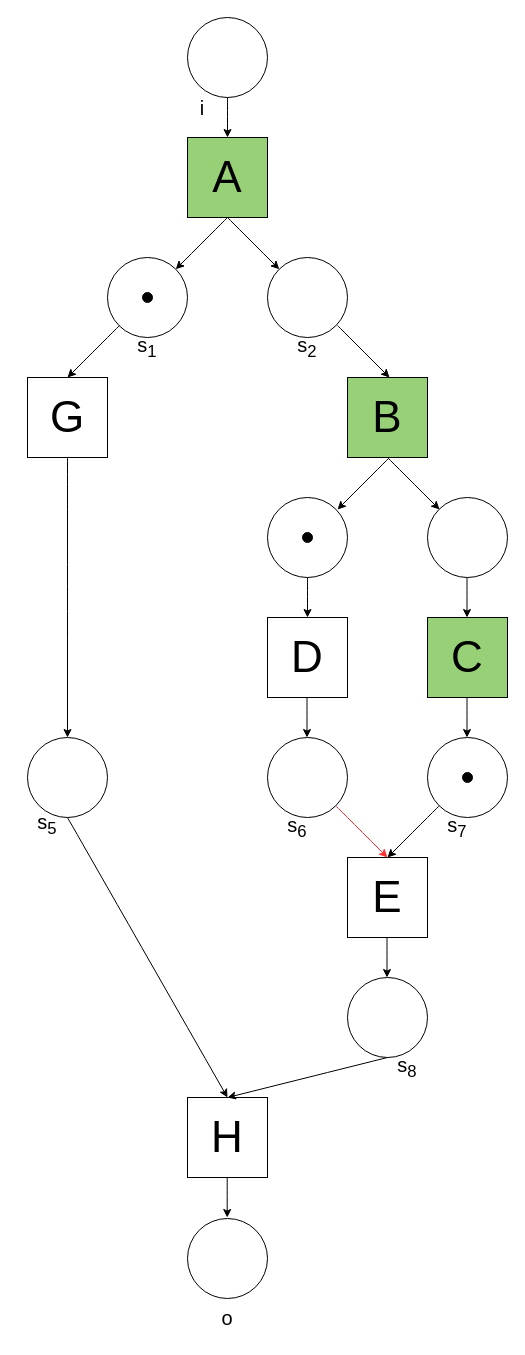
The diagram is 525 pixels wide and 1355 high, and some of its shapes have lost their labels. Here are the shapes that lost their labels. From the top down, the box of each, then its label:
(266, 496, 348, 578): s 3
(426, 496, 508, 578): s 4
